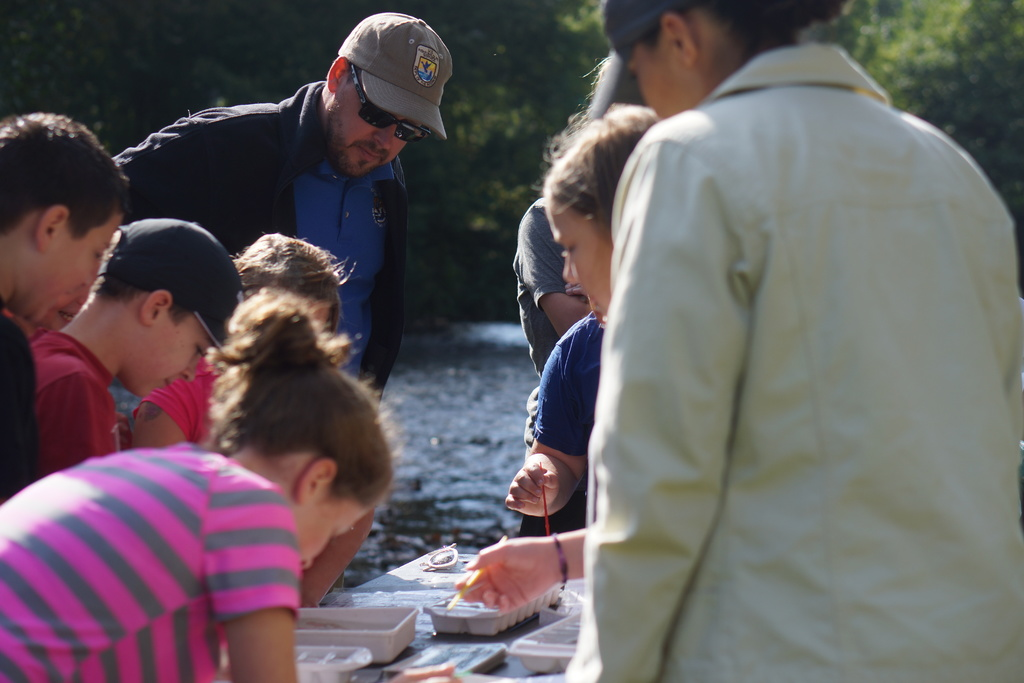Human-face: (328, 65, 424, 176), (27, 211, 115, 322), (122, 311, 211, 399), (548, 201, 609, 314), (301, 506, 367, 569), (624, 47, 682, 113)
